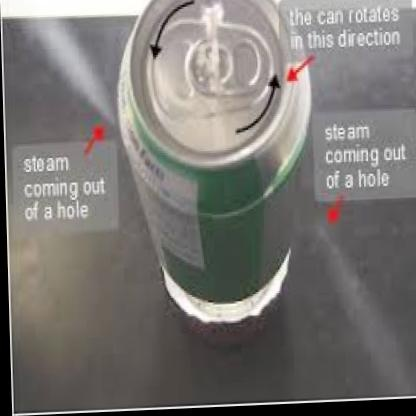trash: (118, 0, 310, 322)
